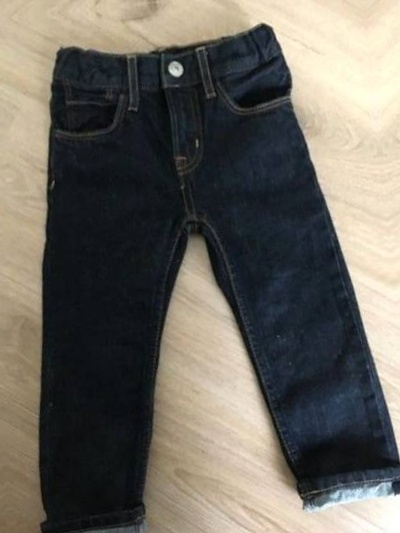Pants: (0, 0, 400, 533), (375, 0, 400, 507), (0, 0, 348, 4)
